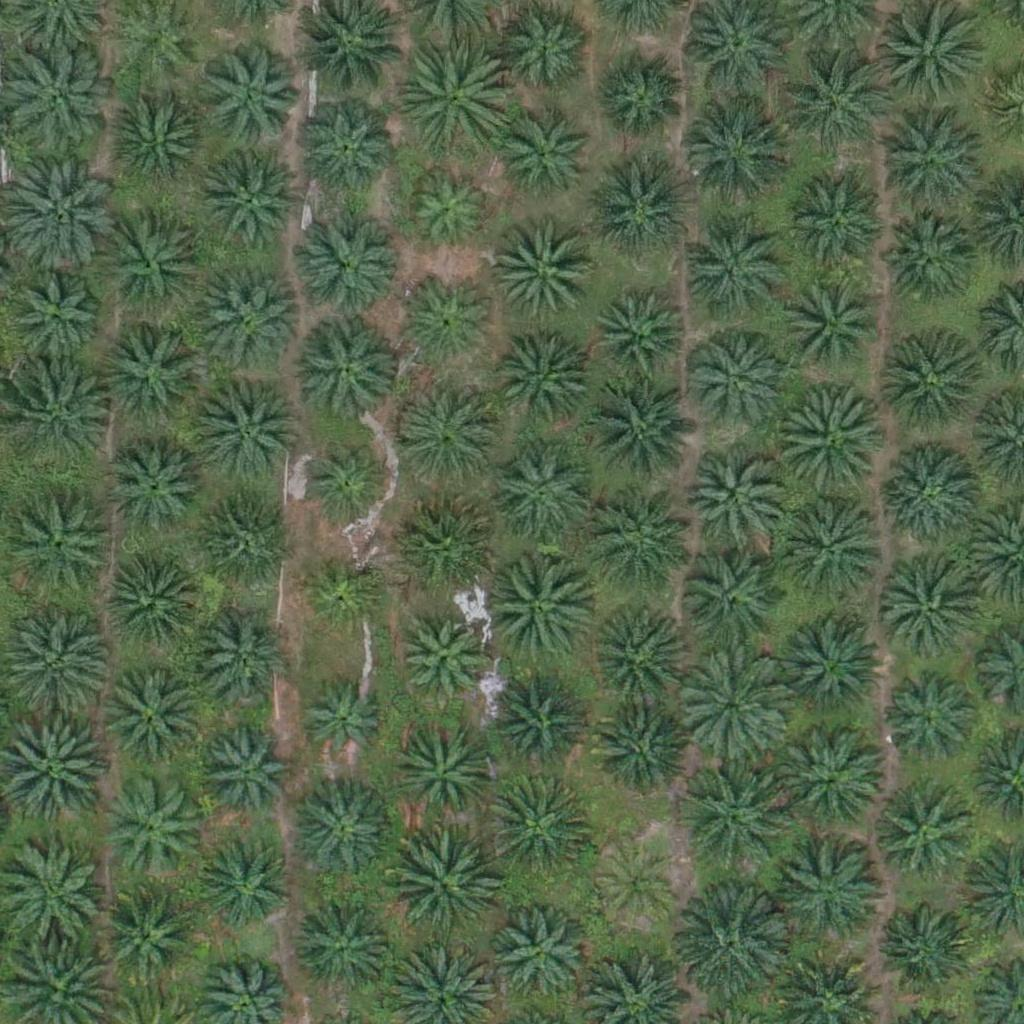Kelapa_Sawit: (4, 495, 117, 609), (675, 92, 788, 206), (674, 763, 787, 877), (97, 208, 210, 321), (475, 549, 588, 662), (774, 387, 887, 500), (674, 889, 787, 1002), (385, 830, 498, 943), (403, 45, 515, 159), (682, 204, 794, 318), (5, 49, 117, 162), (97, 318, 209, 431), (195, 261, 307, 374), (191, 376, 303, 489), (395, 376, 507, 489), (584, 376, 696, 489), (675, 648, 787, 761), (776, 491, 888, 604), (779, 46, 891, 159), (483, 772, 595, 885), (3, 271, 103, 372), (108, 552, 208, 653), (108, 435, 208, 536), (106, 90, 206, 191), (197, 155, 297, 256), (192, 499, 292, 600), (197, 608, 297, 709), (295, 319, 395, 420), (407, 495, 507, 596), (490, 230, 590, 331), (489, 442, 589, 543), (480, 671, 580, 772), (583, 602, 683, 703), (593, 502, 693, 603), (589, 157, 689, 258), (687, 329, 787, 430), (684, 445, 784, 546), (782, 610, 882, 711), (784, 172, 884, 273), (783, 276, 883, 377), (880, 111, 980, 212), (877, 333, 977, 434), (883, 441, 983, 542), (882, 566, 982, 667), (488, 904, 588, 1005), (392, 723, 492, 824), (290, 783, 390, 884), (292, 896, 392, 997), (100, 773, 200, 874), (97, 883, 197, 984), (104, 666, 204, 766), (208, 48, 308, 148), (295, 96, 395, 196), (297, 217, 397, 317), (495, 328, 595, 428), (677, 552, 777, 652), (877, 211, 977, 311), (871, 780, 971, 880), (876, 896, 976, 996), (782, 729, 882, 829), (782, 846, 882, 946), (584, 699, 684, 799), (301, 547, 389, 635), (301, 434, 389, 522), (396, 615, 484, 703), (410, 167, 498, 255), (593, 842, 681, 930), (200, 841, 288, 929), (199, 732, 287, 820), (296, 679, 383, 767), (405, 278, 492, 366), (499, 6, 586, 94), (503, 113, 590, 201), (594, 287, 681, 375), (597, 48, 684, 136), (885, 675, 972, 763)
